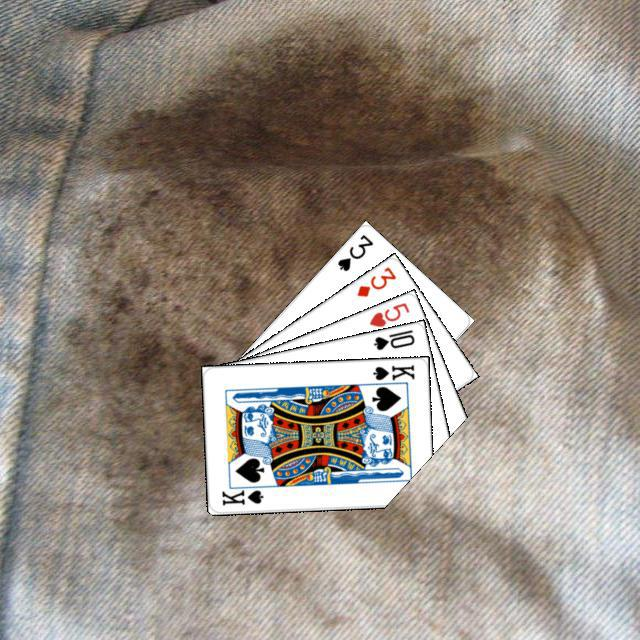10s: (369, 325, 416, 352)
3d: (352, 262, 398, 299)
3s: (332, 229, 375, 273)
5h: (364, 298, 411, 329)
Ks: (217, 481, 268, 507), (368, 360, 416, 382)
